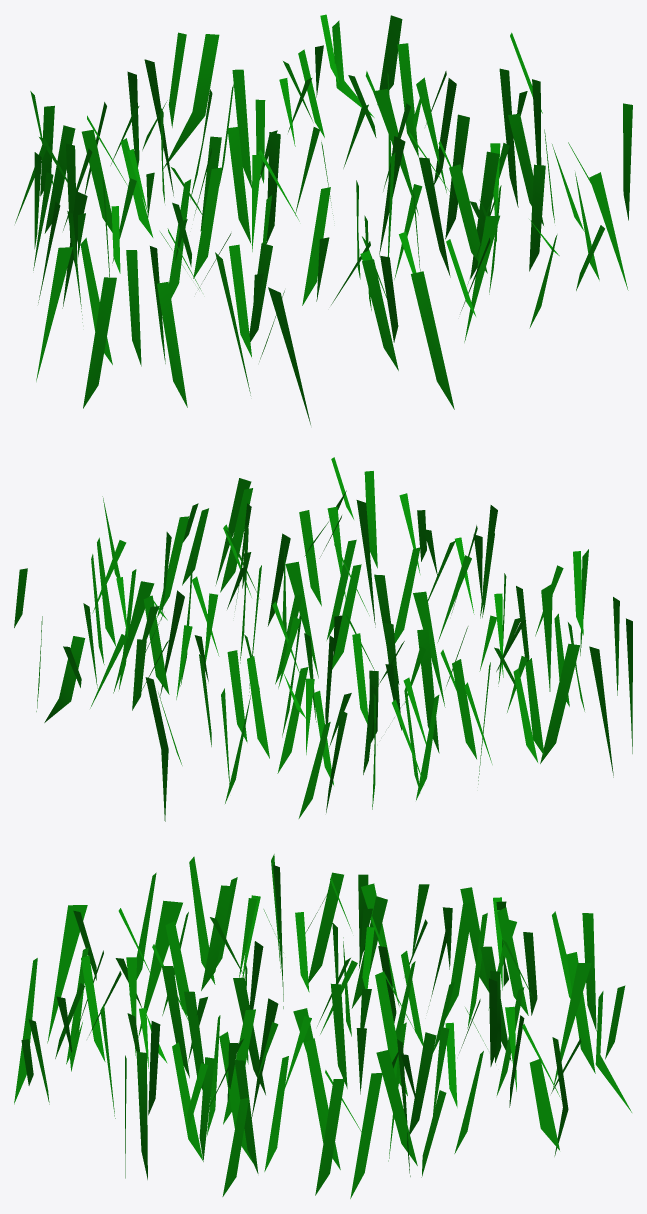
File: grassLod3.obj
3 views of the same model, one above another, from view 1: azimuth 30°, elevation 25°; view 2: azimuth 150°, elevation 25°; view 3: azimuth 270°, elevation 25° (orthographic). The views are drawn at different scales.
Visible parts, largest first — view 1: GrassLOD2_Mesh; view 2: GrassLOD2_Mesh; view 3: GrassLOD2_Mesh.
Boxes of the visible parts, box(x1,y1,x2,y2) form: GrassLOD2_Mesh: box(15, 14, 632, 424); GrassLOD2_Mesh: box(14, 457, 632, 821); GrassLOD2_Mesh: box(14, 854, 631, 1198).
Bounding box in the file's own units: 0.8627 × 0.2243 × 0.8172.
